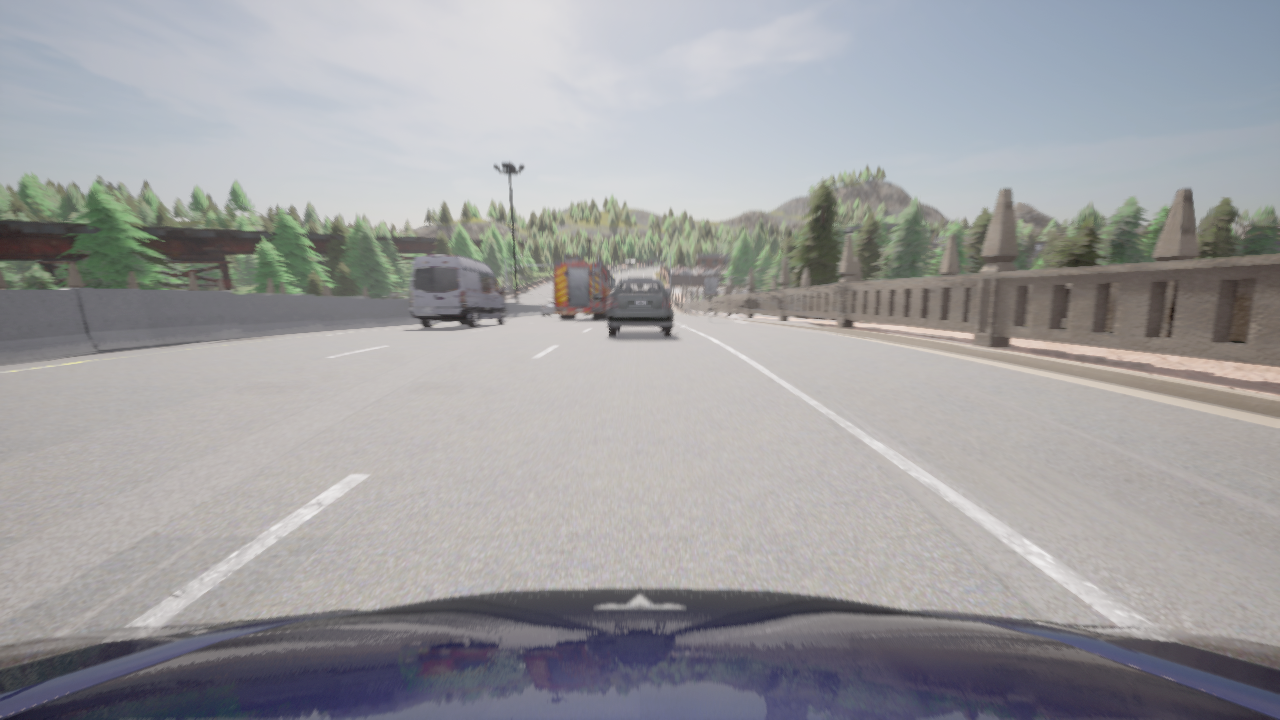cyclist: (0, 588, 1279, 719), (410, 255, 506, 327), (554, 254, 614, 319), (607, 278, 672, 336), (541, 299, 558, 316)
pedestrian: (744, 312, 745, 315)
